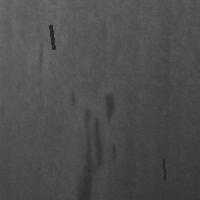inclusion: (68, 90, 117, 199), (100, 85, 120, 125), (34, 40, 48, 76), (48, 23, 55, 51), (161, 156, 166, 181)
